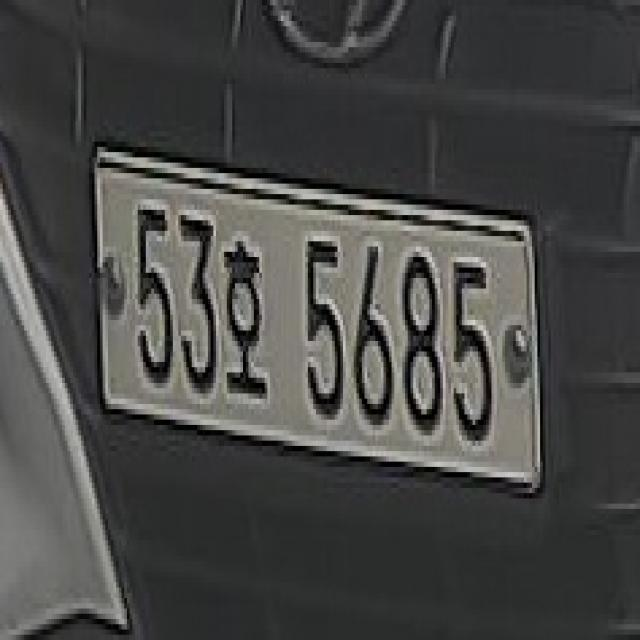3: (176, 189, 224, 414)
5: (127, 173, 178, 404), (445, 252, 497, 456), (300, 215, 348, 435)
6: (351, 226, 400, 451)
8: (400, 220, 448, 457)
ho: (216, 210, 278, 409)
license_plate: (84, 136, 551, 530)
